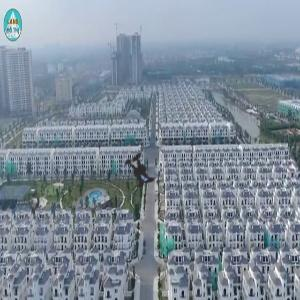drone: (99, 132, 183, 216)
